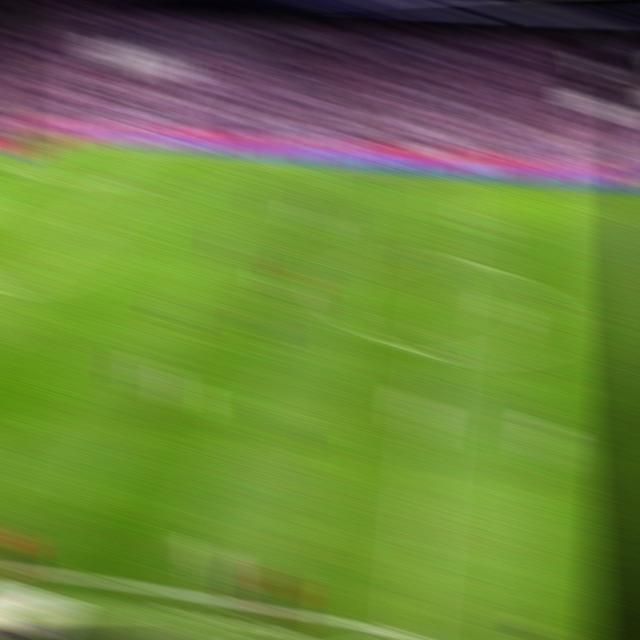bigarea_top_inner: (119, 175, 148, 195)
bottom_arc_area_intersection: (0, 274, 17, 298)
corner: (43, 129, 73, 146)
halfcircle_bottom: (420, 338, 454, 370)
halfcircle_top: (429, 243, 463, 270)
midline_bottom_intersection: (391, 610, 433, 640)
midline_top_intersection: (438, 168, 467, 188)
top_arc_area_intersection: (69, 214, 98, 233)
